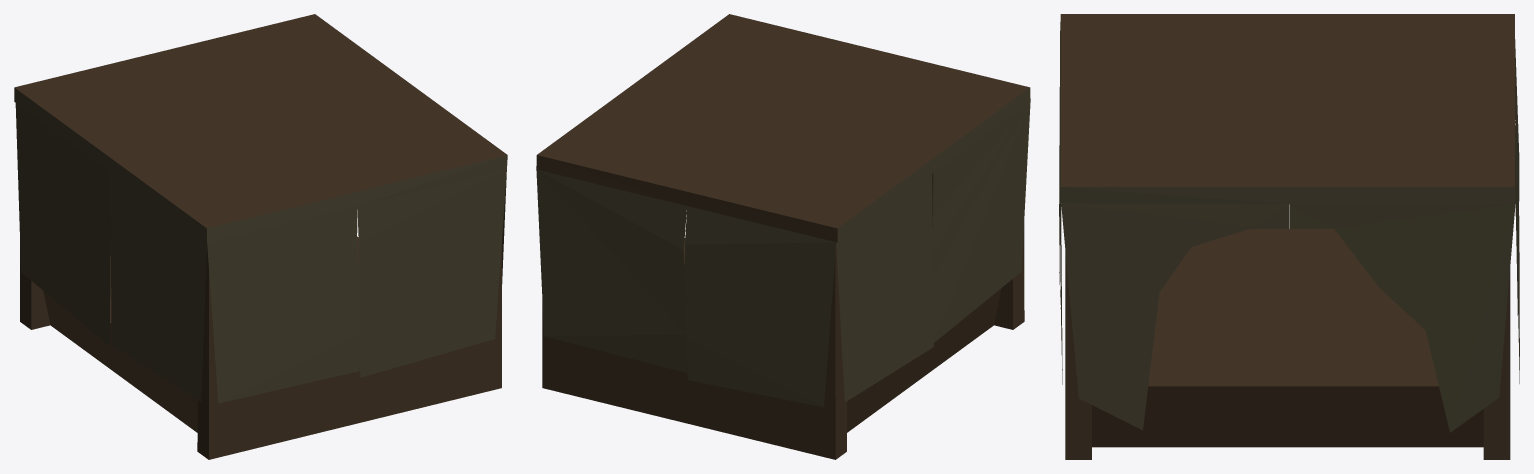
Rendered from LOVEBED_OC.OBJ.
3 views of the same model, side by side, from view 1: azimuth 30°, elevation 25°; view 2: azimuth 150°, elevation 25°; view 3: azimuth 270°, elevation 25° (orthographic). The views are drawn at different scales.
Visible parts, largest first — view 1: LOVEBED_OC; view 2: LOVEBED_OC; view 3: LOVEBED_OC.
Boxes of the visible parts, x1=… form: LOVEBED_OC: x1=14, y1=14, x2=507, y2=459; LOVEBED_OC: x1=536, y1=14, x2=1030, y2=459; LOVEBED_OC: x1=1059, y1=14, x2=1519, y2=459.
Bounding box in the file's own units: 2.75 × 2.04 × 3.1.
